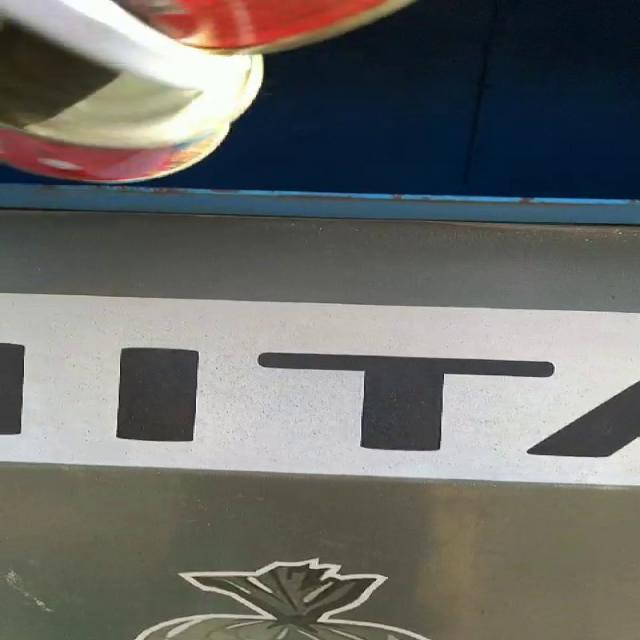bin: (0, 0, 639, 640)
metal: (0, 0, 409, 181)
